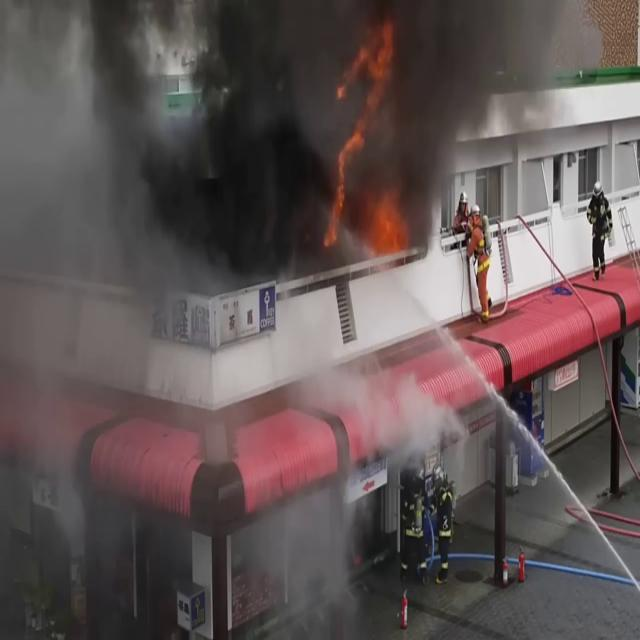Smoke: (14, 0, 586, 264)
